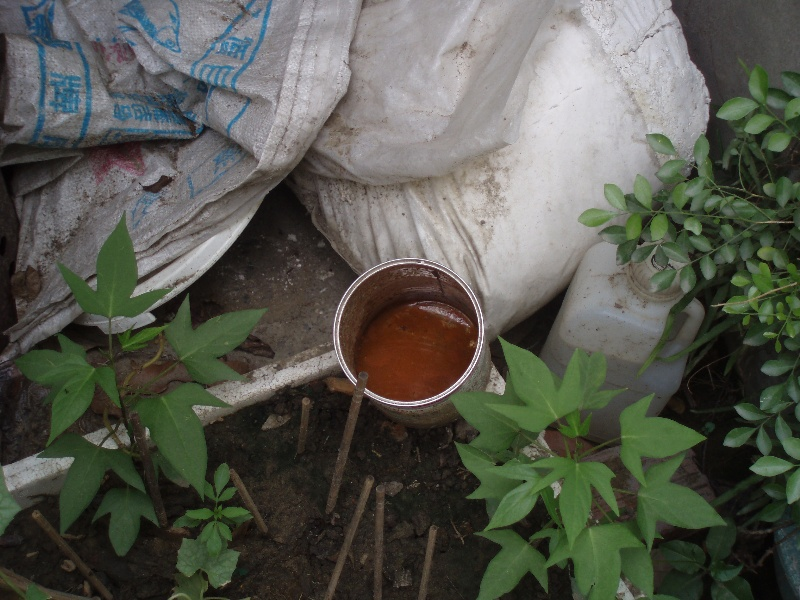bottle: (539, 237, 706, 444), (332, 257, 493, 431)
plastic_bag: (295, 1, 715, 332), (1, 1, 356, 284)
